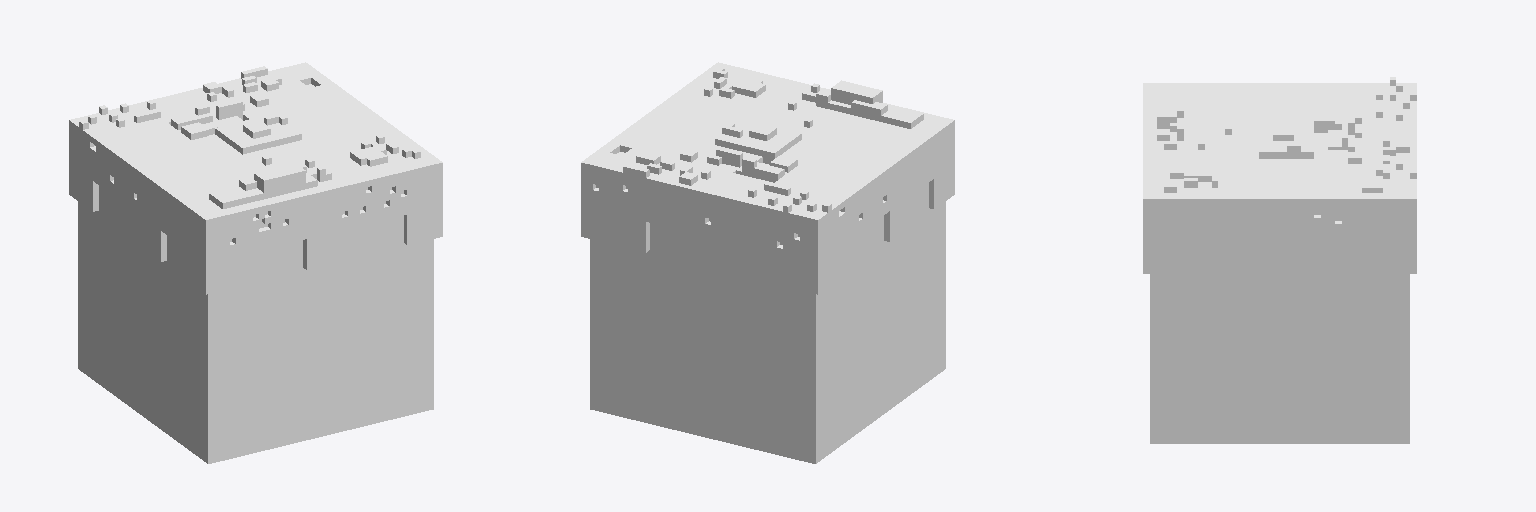
File: tile_base_top_1.obj
3 renders of one model, left to right at view 1: azimuth 30°, elevation 25°; view 2: azimuth 150°, elevation 25°; view 3: azimuth 270°, elevation 25°, orthographic.
Parts seen in each view (by area): view 1: tile_base_top_1; view 2: tile_base_top_1; view 3: tile_base_top_1.
Part boxes in pixels (bbox=[...]): tile_base_top_1: bbox=[69, 62, 442, 463]; tile_base_top_1: bbox=[581, 62, 954, 463]; tile_base_top_1: bbox=[1143, 77, 1416, 443].
Size of the model in its own units: 40 by 43 by 40.